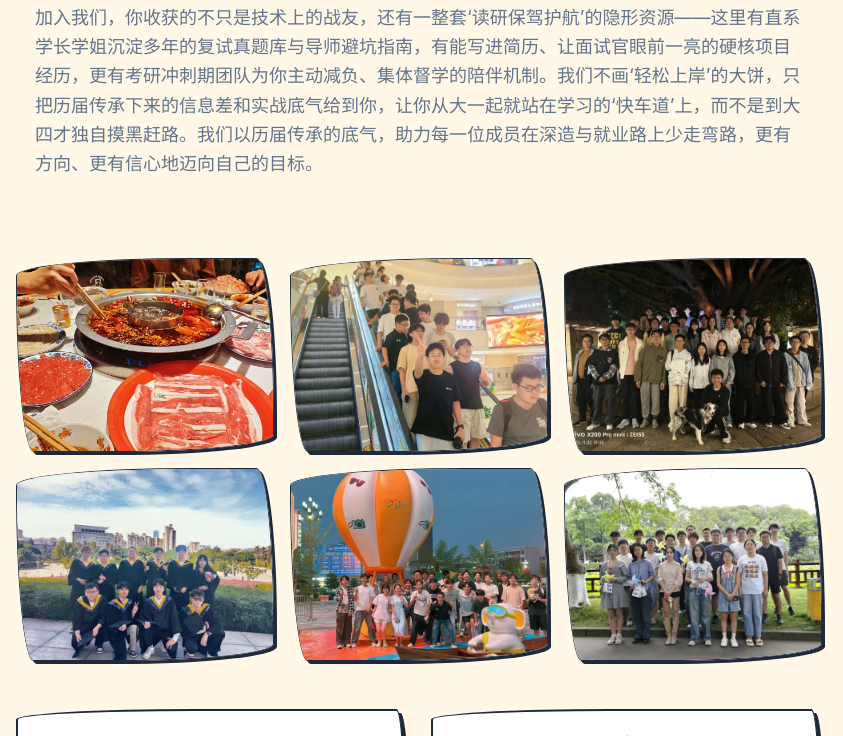
Test: shows a refresh instruction when the viewer module fails to load
(page scrolled)
Click the button named "查看团队成员围坐火锅聚餐" at (145, 355), box [16, 258, 274, 452]
(page scrolled)
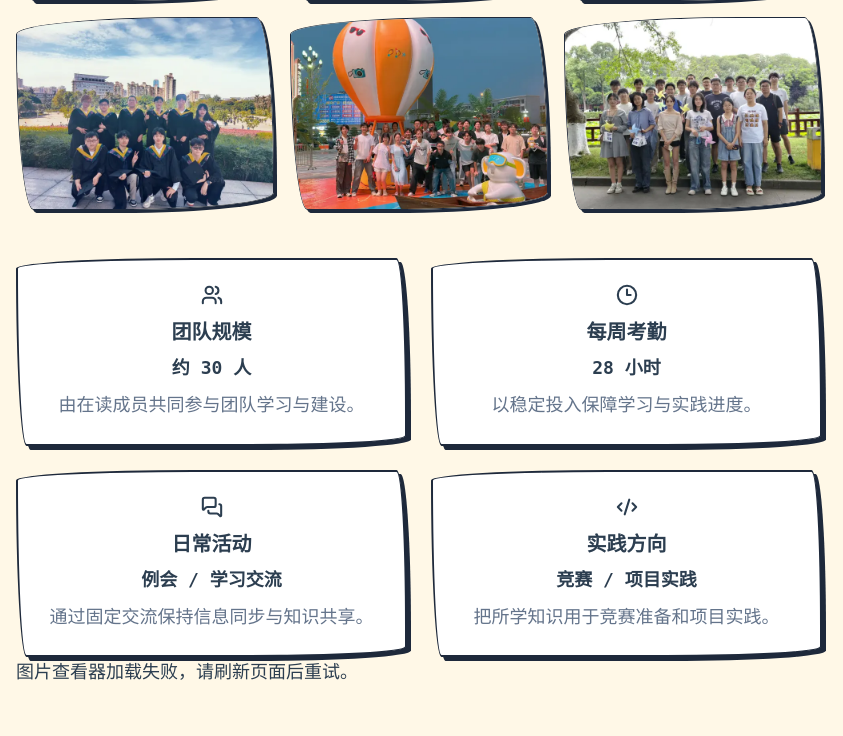
Expected: the message reads "图片查看器加载失败，请刷新页面后重试。", [16, 661, 358, 682]
